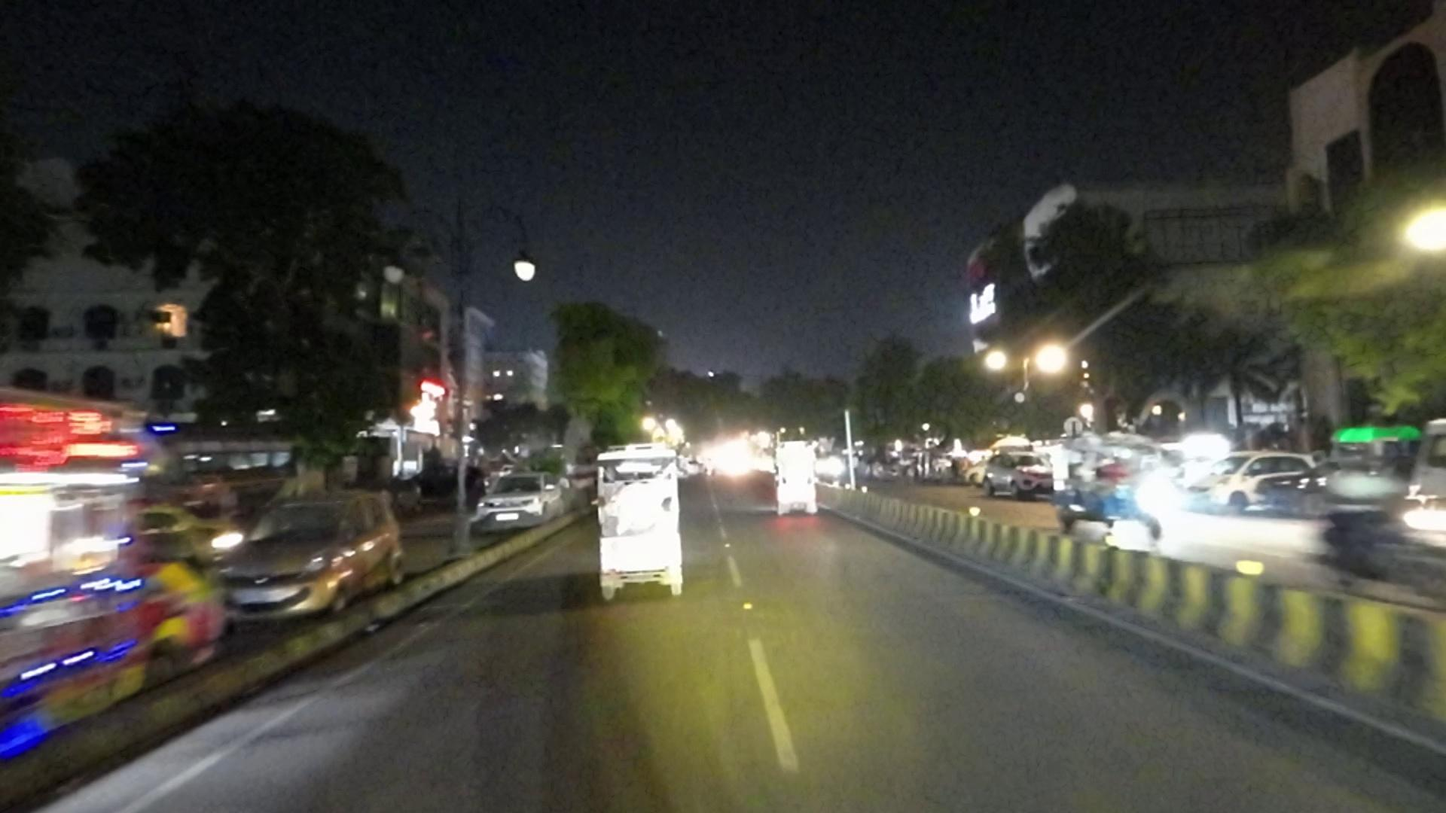streetlight: (361, 245, 419, 297)
